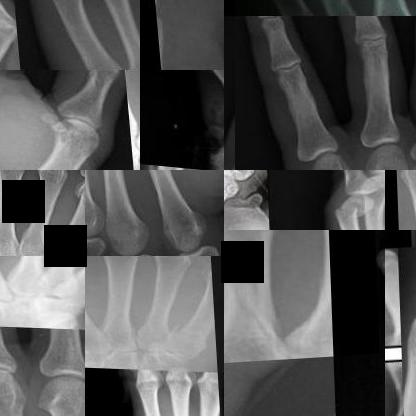fracture: (224, 240, 295, 339), (163, 318, 208, 356), (330, 198, 373, 229), (0, 153, 35, 169), (72, 180, 84, 219)
